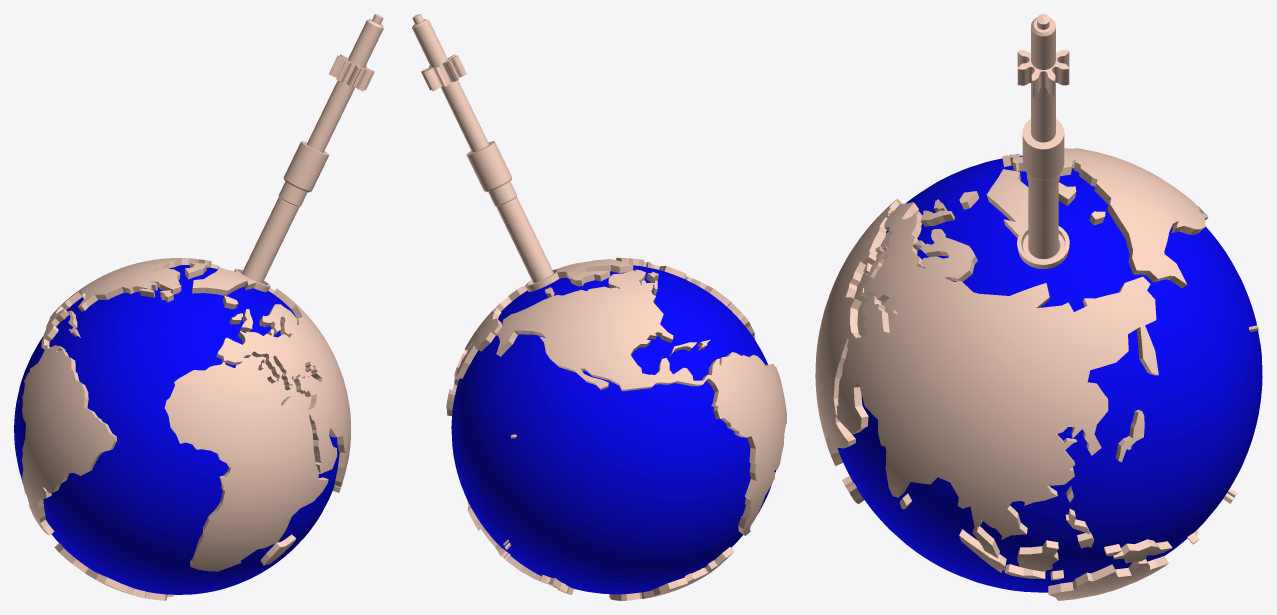
Rendered from globe_rose_gold.glb.
3 views of the same model, side by side, from view 1: azimuth 30°, elevation 25°; view 2: azimuth 150°, elevation 25°; view 3: azimuth 270°, elevation 25° (orthographic). The views are drawn at different scales.
Visible parts, largest first — view 1: astronomia:NONE.006, astronomia:Importée1.202; view 2: astronomia:NONE.006, astronomia:Importée1.202; view 3: astronomia:NONE.006, astronomia:Importée1.202.
Part boxes in pixels (box(x1,y1,x2,y2)): astronomia:NONE.006: box(14, 258, 350, 600); astronomia:Importée1.202: box(242, 14, 383, 283); astronomia:NONE.006: box(446, 257, 786, 600); astronomia:Importée1.202: box(412, 14, 553, 283); astronomia:NONE.006: box(815, 148, 1262, 600); astronomia:Importée1.202: box(1017, 14, 1069, 258).
Size of the model in its own units: 0.00971 by 0.0138 by 0.00804.
